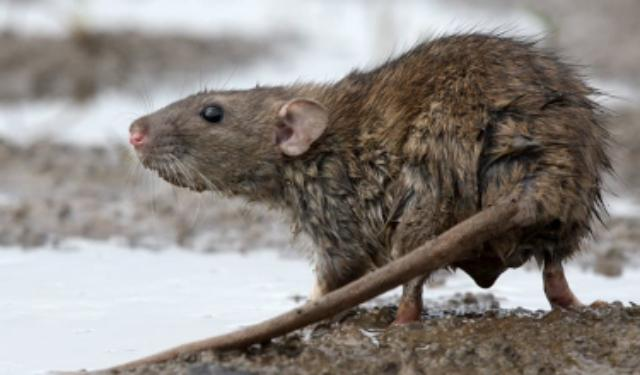rat: (113, 24, 625, 328)
